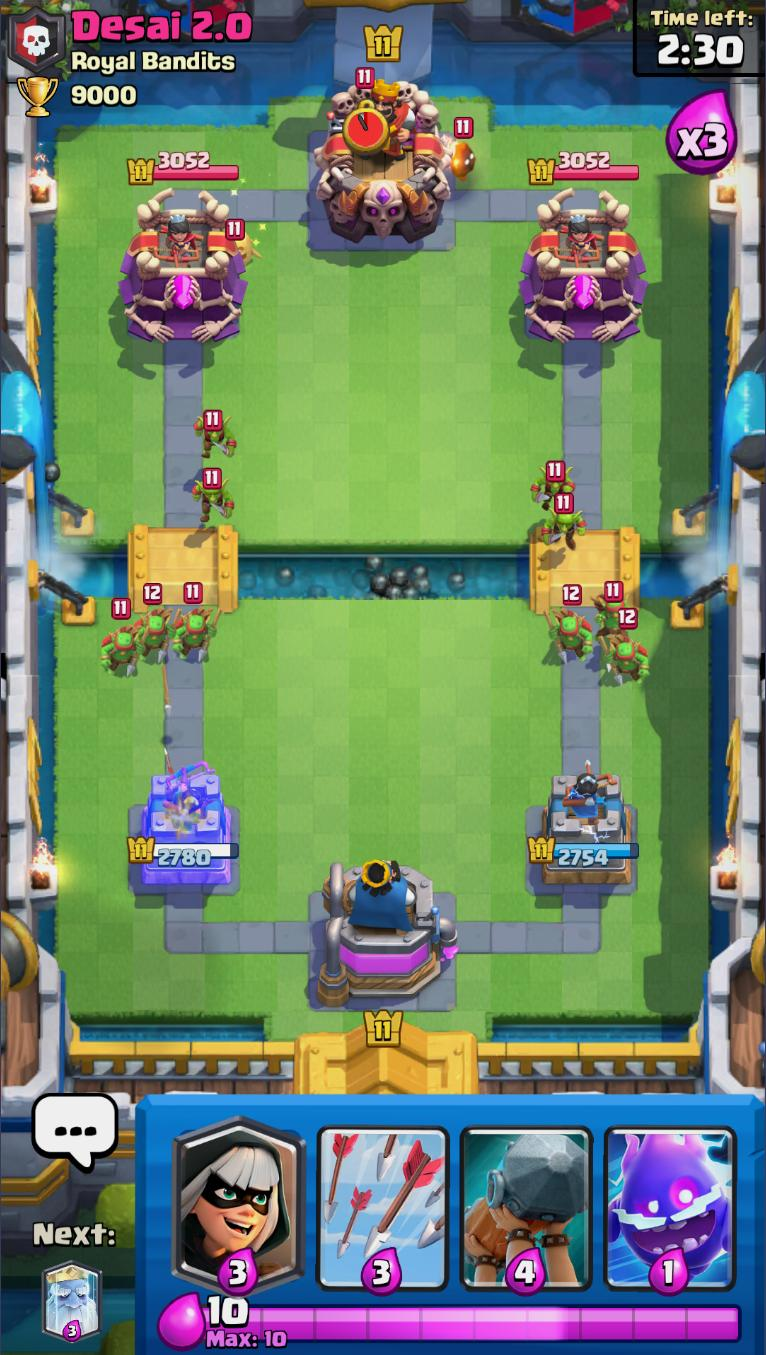ArrowDeck: (308, 1095, 456, 1293)
BanditDeck: (166, 1099, 313, 1290)
BattleRamDeck: (453, 1100, 597, 1297)
ElectroSpiritDeck: (596, 1100, 745, 1293)
Elixir: (203, 1285, 252, 1328)
EnemyTower: (522, 190, 650, 348), (120, 197, 238, 347)
FireSpirit: (448, 117, 483, 180)
Goblin: (190, 470, 235, 527), (545, 495, 590, 550), (197, 407, 238, 462), (533, 465, 575, 513)
HealSpirit: (223, 215, 262, 272)
KingTower: (313, 73, 450, 257)
MyKingTower: (315, 860, 462, 1010)
MyPrincessTower: (122, 773, 240, 892), (530, 767, 642, 887)
MyPrincessTowerHP: (128, 837, 238, 867), (532, 838, 642, 867)
PrincessTower: (555, 213, 607, 267), (152, 212, 202, 267)
RoyaleGhostNext: (42, 1257, 103, 1343)
SpearGoblin: (547, 585, 595, 660), (178, 583, 220, 662), (608, 607, 650, 685), (105, 595, 142, 678), (133, 585, 175, 655), (590, 578, 635, 638)
TowerPrincessHP: (527, 150, 642, 188), (128, 145, 237, 185)
